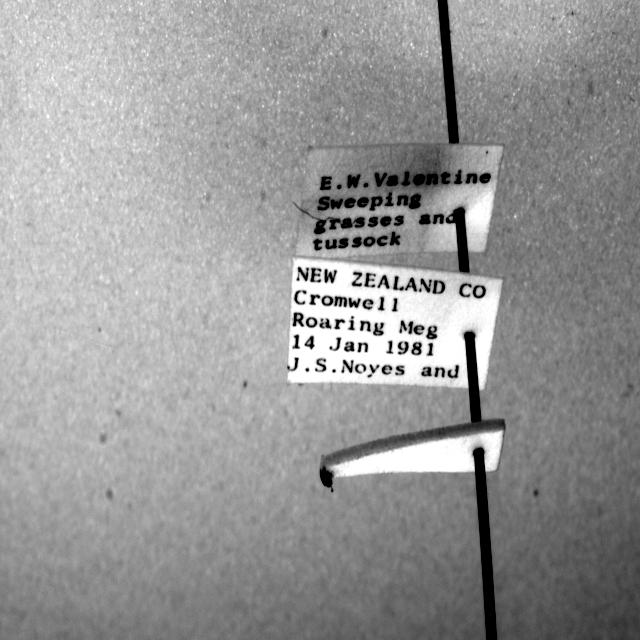typed_label: (288, 259, 502, 390), (295, 142, 504, 259)
